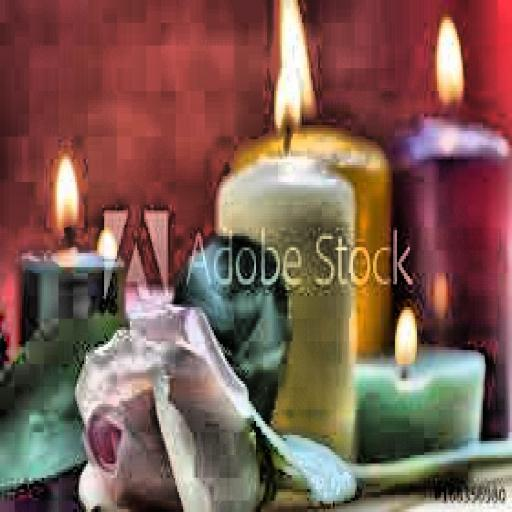fire: (274, 3, 322, 114), (432, 11, 479, 111), (264, 66, 314, 142), (53, 148, 88, 247), (393, 304, 417, 367)
